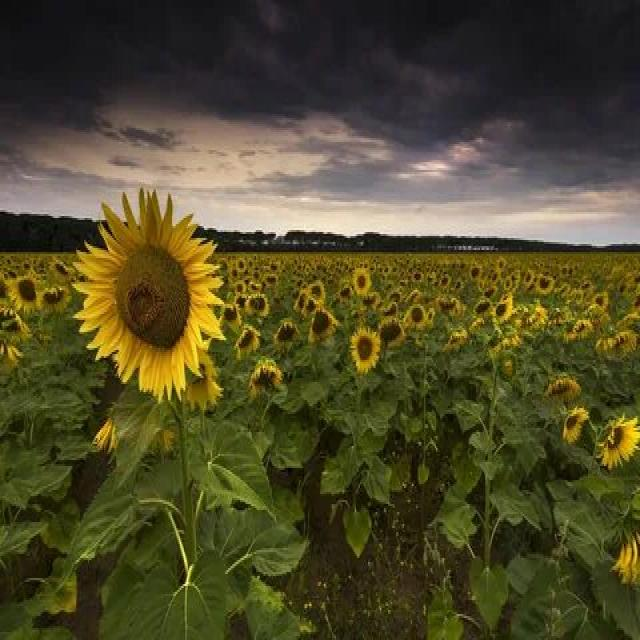sunflower: (73, 186, 231, 398), (596, 412, 636, 476), (7, 266, 42, 318), (347, 320, 380, 374), (250, 356, 282, 398), (565, 398, 588, 452), (305, 306, 339, 342), (350, 264, 374, 300), (491, 294, 517, 326), (569, 312, 592, 344), (244, 288, 268, 318), (235, 320, 257, 352), (307, 276, 325, 304), (536, 272, 554, 298)
